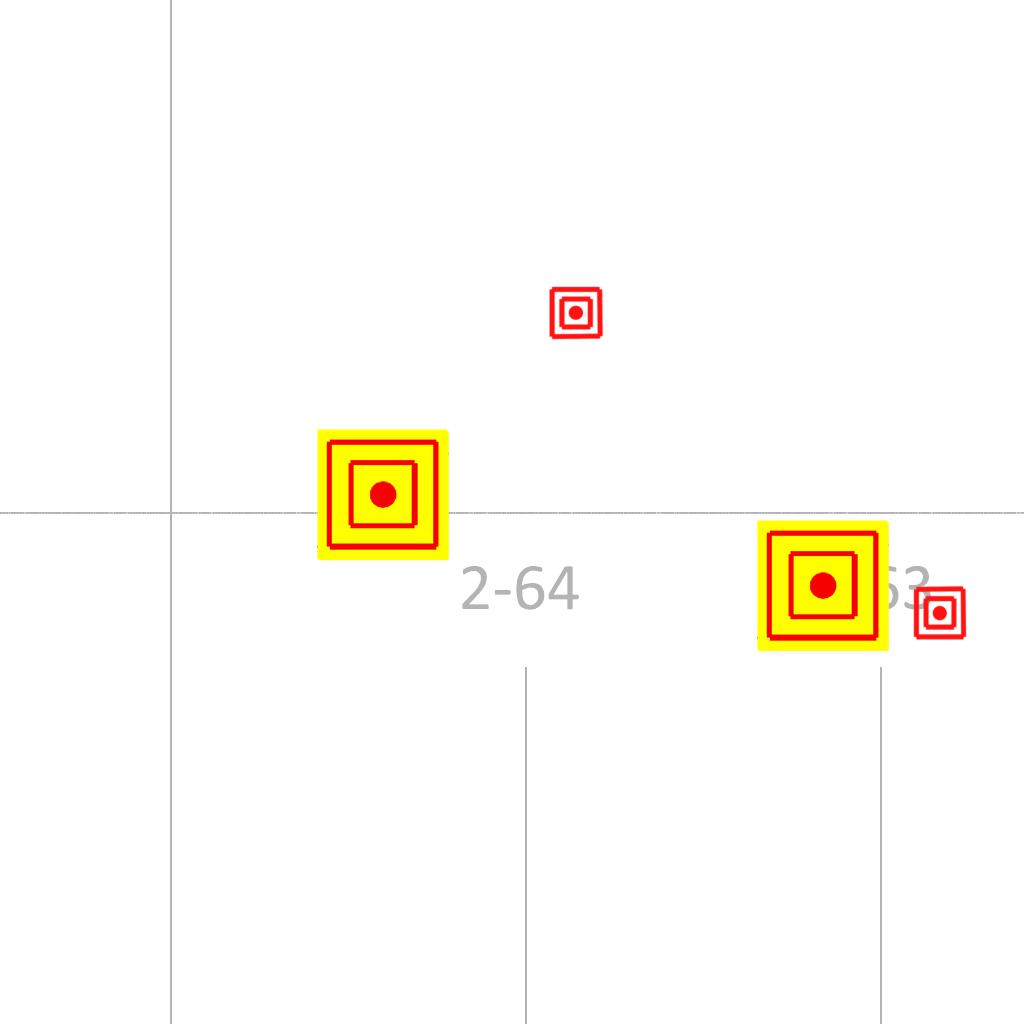NAM-Nichtautomatischer_Melder: (757, 520, 889, 652), (317, 429, 449, 561), (548, 285, 604, 341), (912, 585, 968, 641)
